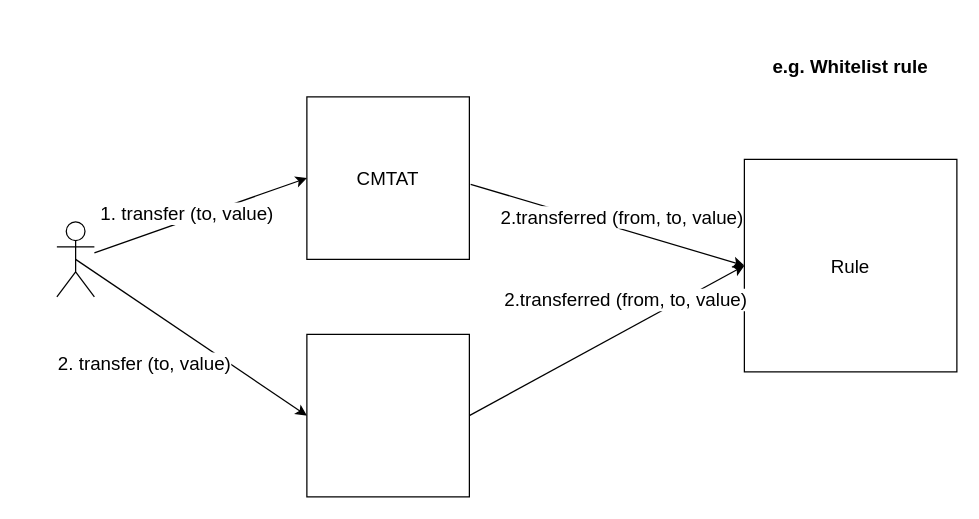
Image size: 979x519. Some labels were removed from this diagram. Each missing label, with the centre of its shape:
"ERC-3643 tokens" goes at pixel 387 415.
"Token holder" goes at pixel 75 259.
